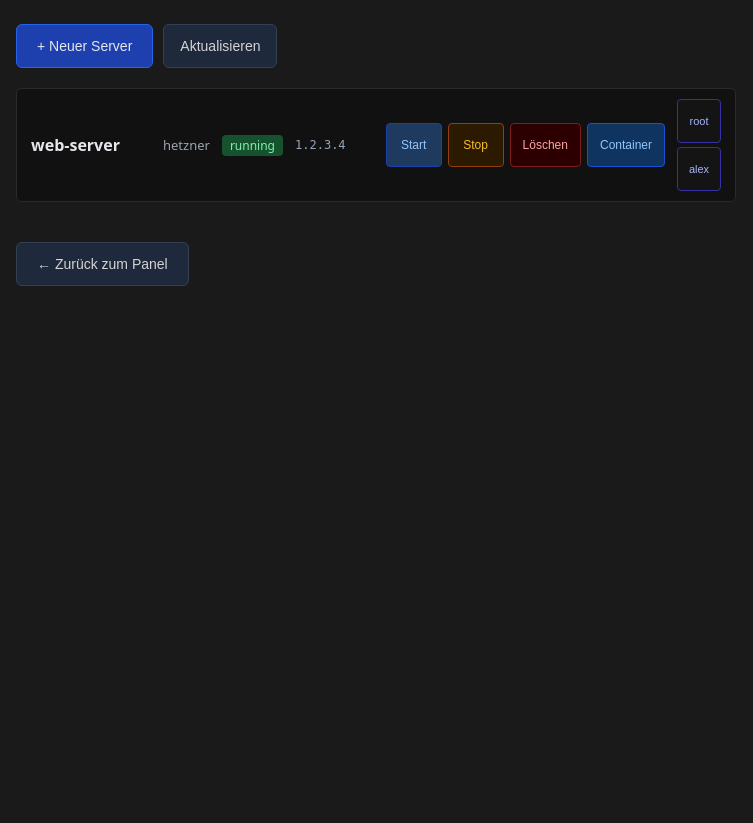
VpsContainerOverview — AC5: Logs ansehen › Logs-Button lädt Log-Zeilen und zeigt sie an
Click the button "Container": (626, 145) 587,123 -> 665,167
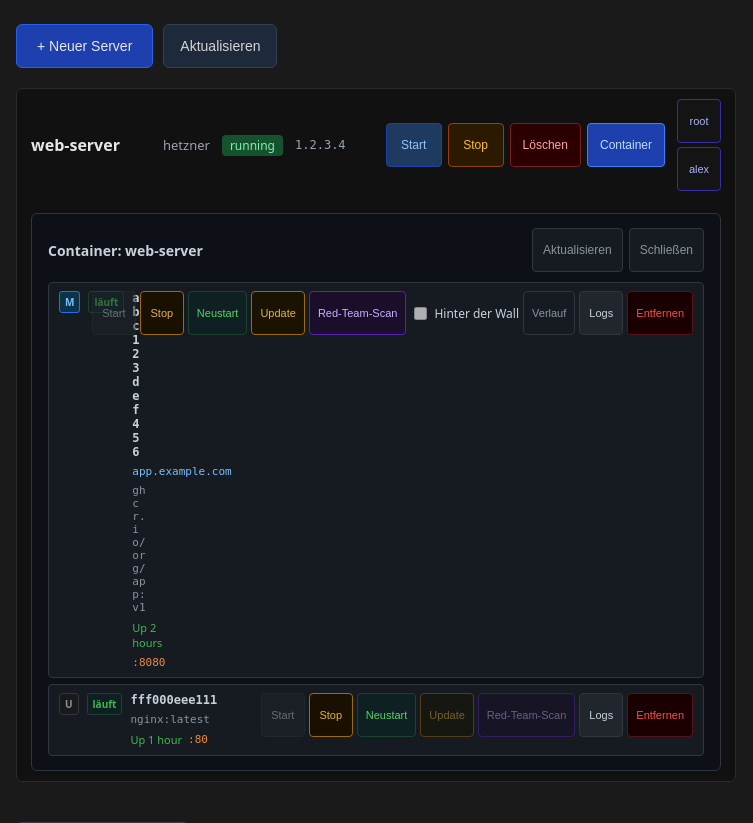
Now the button with aria-label "logs von container abc123def456" is shown
Click the button with aria-label "logs von container abc123def456": (601, 313) 579,291 -> 623,335
(page scrolled)
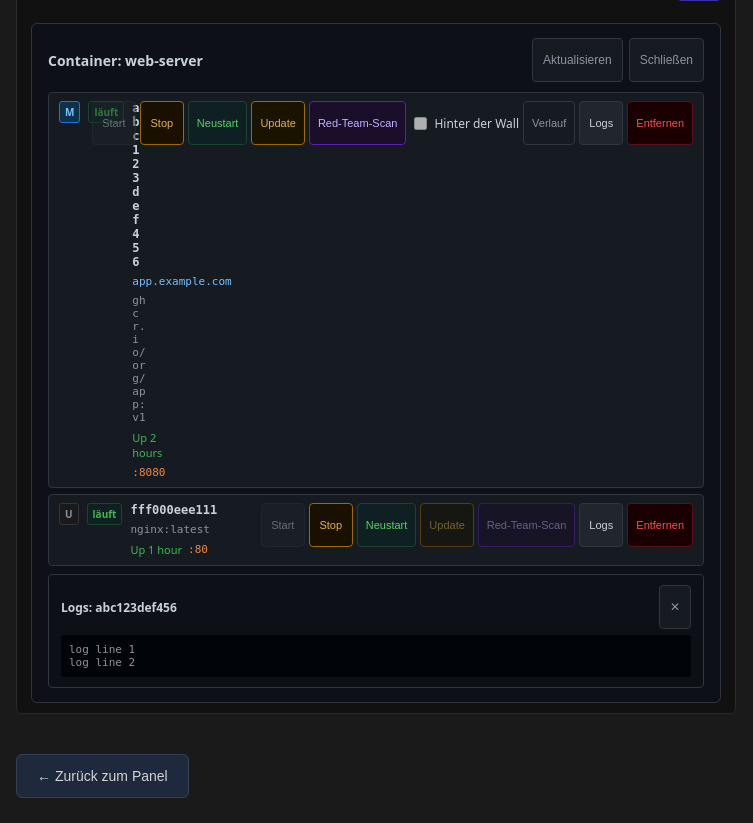
Now the text "log line 1 log line 2" is shown, box 61,635 -> 691,677
